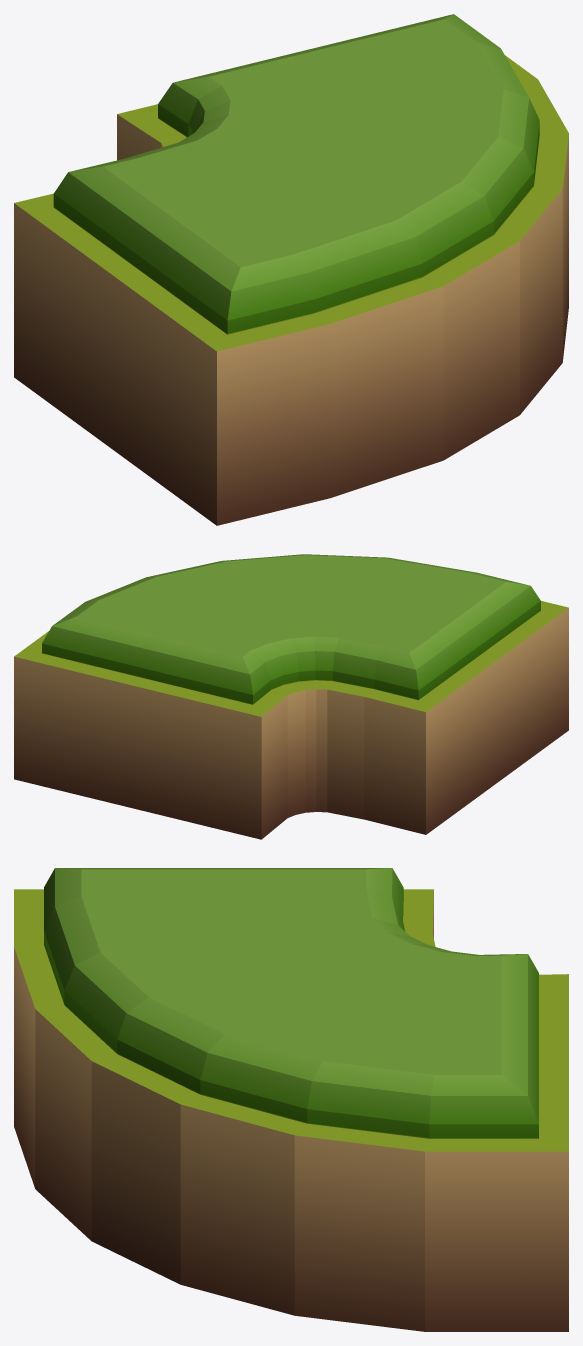
The model's file is Inner_Curve_grass.fbx.
The picture shows the model from 3 angles, top to bottom: view 1: azimuth 30°, elevation 25°; view 2: azimuth 150°, elevation 25°; view 3: azimuth 270°, elevation 25°; orthographic projection. The views are drawn at different scales.
Parts seen in each view (by area): view 1: Inner_Curve_grass; view 2: Inner_Curve_grass; view 3: Inner_Curve_grass.
Part boxes in pixels (x1,y1,x2,y2): Inner_Curve_grass: (14,14,568,525); Inner_Curve_grass: (14,554,568,839); Inner_Curve_grass: (14,868,568,1331).
Bounding box in the file's own units: 119 × 48.52 × 107.
